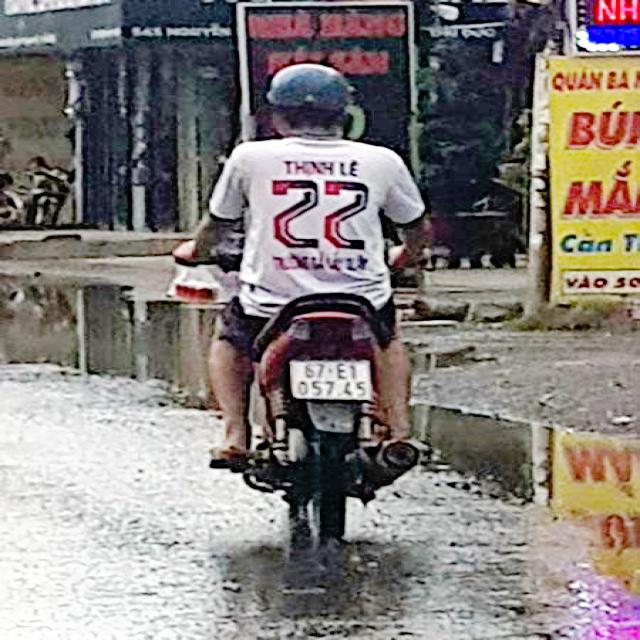license_plate: (291, 362, 372, 402)
